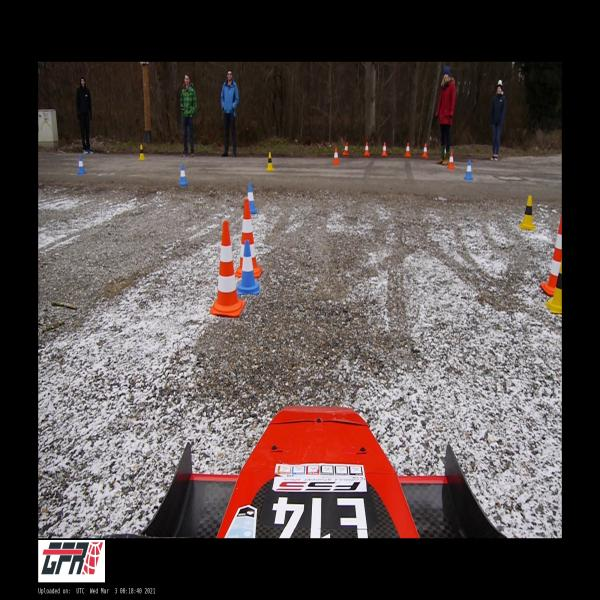blue_cone: (238, 241, 258, 290), (246, 183, 257, 214), (179, 164, 189, 186), (464, 160, 473, 180), (77, 156, 86, 174)
large_orange_cone: (210, 220, 245, 317), (236, 200, 262, 277), (540, 210, 562, 296)
orange_cone: (332, 148, 340, 165), (447, 152, 454, 170), (405, 142, 411, 158), (422, 143, 428, 158), (364, 142, 369, 157), (382, 142, 387, 156), (343, 142, 348, 155)
yellow_cone: (544, 261, 562, 313), (519, 195, 535, 231), (265, 152, 274, 171), (138, 144, 146, 160)
